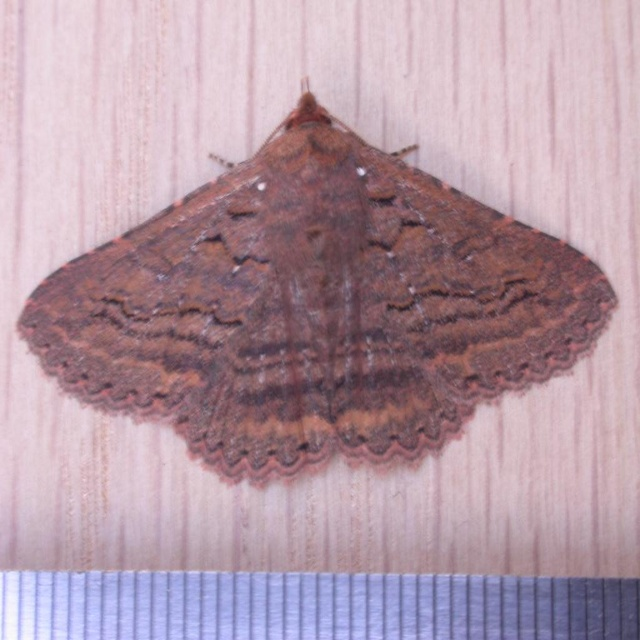Moths and butterflies: (14, 72, 620, 480)
